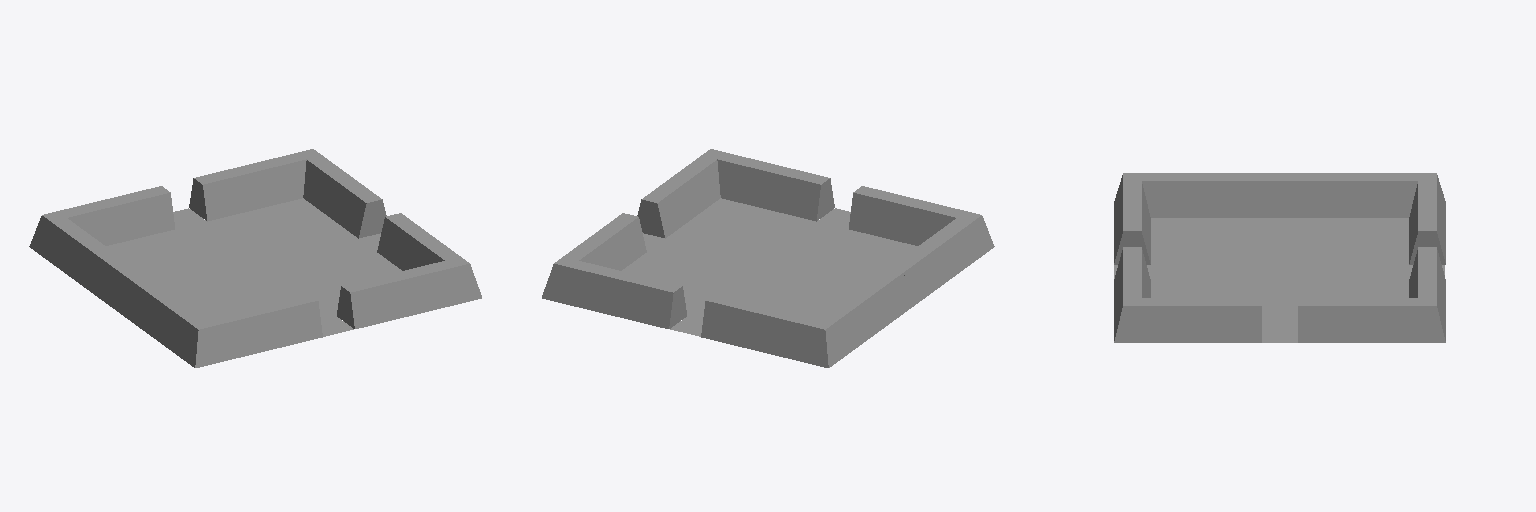
Rendered from sala_13.obj.
3 views of the same model, side by side, from view 1: azimuth 30°, elevation 25°; view 2: azimuth 150°, elevation 25°; view 3: azimuth 270°, elevation 25° (orthographic).
Parts seen in each view (by area): view 1: Ground_Plane.001, Wall.005_Cube.002, Wall.002_Cube.014, Wall.007_Cube.017, Wall.001_Cube.012, Wall.003_Cube.010, Wall.000_Cube.011, Wall.006_Cube.016, Wall.004_Cube.015, Plane.001_Plane.007, Plane.002_Plane.008; view 2: Ground_Plane.001, Wall.007_Cube.017, Wall.000_Cube.011, Wall.005_Cube.002, Wall.003_Cube.010, Wall.001_Cube.012, Wall.002_Cube.014, Wall.004_Cube.015, Wall.006_Cube.016, Plane.002_Plane.008, Plane.001_Plane.007; view 3: Ground_Plane.001, Wall.004_Cube.015, Wall.006_Cube.016, Wall.003_Cube.010, Wall.001_Cube.012, Wall.000_Cube.011, Wall.002_Cube.014, Wall.005_Cube.002, Wall.007_Cube.017, Plane.003_Plane.005.
Part boxes in pixels (bbox=[...]): Ground_Plane.001: bbox=[106, 198, 401, 318]; Wall.005_Cube.002: bbox=[337, 261, 481, 328]; Wall.002_Cube.014: bbox=[195, 294, 322, 367]; Wall.007_Cube.017: bbox=[189, 149, 312, 221]; Wall.001_Cube.012: bbox=[29, 215, 135, 306]; Wall.003_Cube.010: bbox=[112, 269, 204, 367]; Wall.000_Cube.011: bbox=[44, 186, 174, 245]; Wall.006_Cube.016: bbox=[303, 149, 386, 238]; Wall.004_Cube.015: bbox=[377, 213, 468, 270]; Plane.001_Plane.007: bbox=[173, 208, 216, 236]; Plane.002_Plane.008: bbox=[320, 308, 353, 336]; Ground_Plane.001: bbox=[622, 198, 917, 318]; Wall.007_Cube.017: bbox=[542, 261, 686, 328]; Wall.000_Cube.011: bbox=[701, 294, 828, 367]; Wall.005_Cube.002: bbox=[711, 149, 834, 221]; Wall.003_Cube.010: bbox=[888, 215, 994, 306]; Wall.001_Cube.012: bbox=[819, 269, 911, 367]; Wall.002_Cube.014: bbox=[849, 186, 979, 245]; Wall.004_Cube.015: bbox=[637, 149, 720, 238]; Wall.006_Cube.016: bbox=[555, 213, 646, 270]; Plane.002_Plane.008: bbox=[807, 208, 850, 236]; Plane.001_Plane.007: bbox=[670, 308, 703, 336]; Ground_Plane.001: bbox=[1151, 218, 1408, 317]; Wall.004_Cube.015: bbox=[1114, 298, 1261, 342]; Wall.006_Cube.016: bbox=[1298, 298, 1445, 342]; Wall.003_Cube.010: bbox=[1124, 173, 1279, 217]; Wall.001_Cube.012: bbox=[1280, 173, 1435, 217]; Wall.000_Cube.011: bbox=[1409, 173, 1445, 264]; Wall.002_Cube.014: bbox=[1114, 173, 1150, 264]; Wall.005_Cube.002: bbox=[1114, 247, 1150, 340]; Wall.007_Cube.017: bbox=[1409, 247, 1445, 340]; Plane.003_Plane.005: bbox=[1262, 318, 1297, 342].
Size of the model in its own units: 18 by 2 by 18.